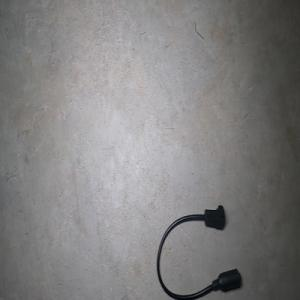Wire: (156, 205, 241, 299)
